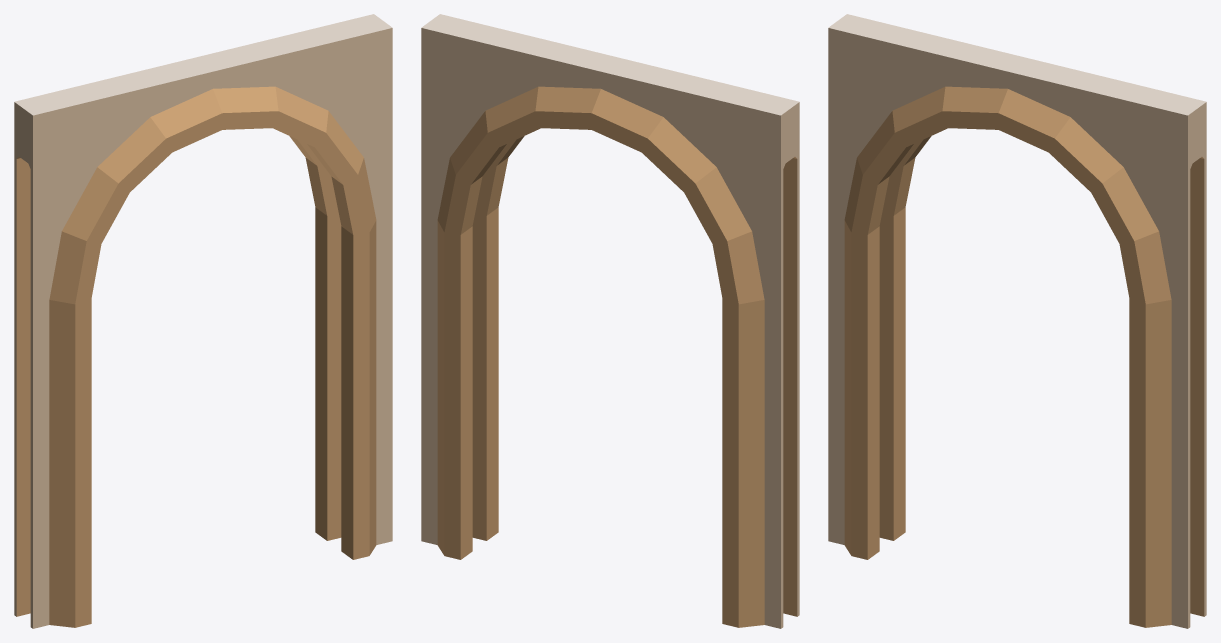
Rendered from Wall_Straight_Doorway_Large_Pocket.fbx.
3 views of the same model, side by side, from view 1: azimuth 30°, elevation 25°; view 2: azimuth 150°, elevation 25°; view 3: azimuth 330°, elevation 25° (orthographic).
Parts seen in each view (by area): view 1: Sandstone_5.Sandstone_5.Sandstone_5.object1, Sandstone_Trim.Sandstone_Trim.Sandstone_Trim.Sandstone_Trim, Sandstone_Floor; view 2: Sandstone_5.Sandstone_5.Sandstone_5.object1, Sandstone_Trim.Sandstone_Trim.Sandstone_Trim.Sandstone_Trim, Sandstone_Floor; view 3: Sandstone_5.Sandstone_5.Sandstone_5.object1, Sandstone_Trim.Sandstone_Trim.Sandstone_Trim.Sandstone_Trim, Sandstone_Floor.
Boxes of the visible parts, x1,y1,x2,y2 form: Sandstone_5.Sandstone_5.Sandstone_5.object1: (16, 86, 376, 627); Sandstone_Trim.Sandstone_Trim.Sandstone_Trim.Sandstone_Trim: (14, 28, 392, 628); Sandstone_Floor: (14, 14, 392, 115); Sandstone_5.Sandstone_5.Sandstone_5.object1: (437, 86, 797, 627); Sandstone_Trim.Sandstone_Trim.Sandstone_Trim.Sandstone_Trim: (421, 28, 799, 628); Sandstone_Floor: (421, 14, 799, 115); Sandstone_5.Sandstone_5.Sandstone_5.object1: (844, 86, 1204, 627); Sandstone_Trim.Sandstone_Trim.Sandstone_Trim.Sandstone_Trim: (828, 28, 1206, 628); Sandstone_Floor: (828, 14, 1206, 115).
Size of the model in its own units: 2.2 by 3 by 0.4.
